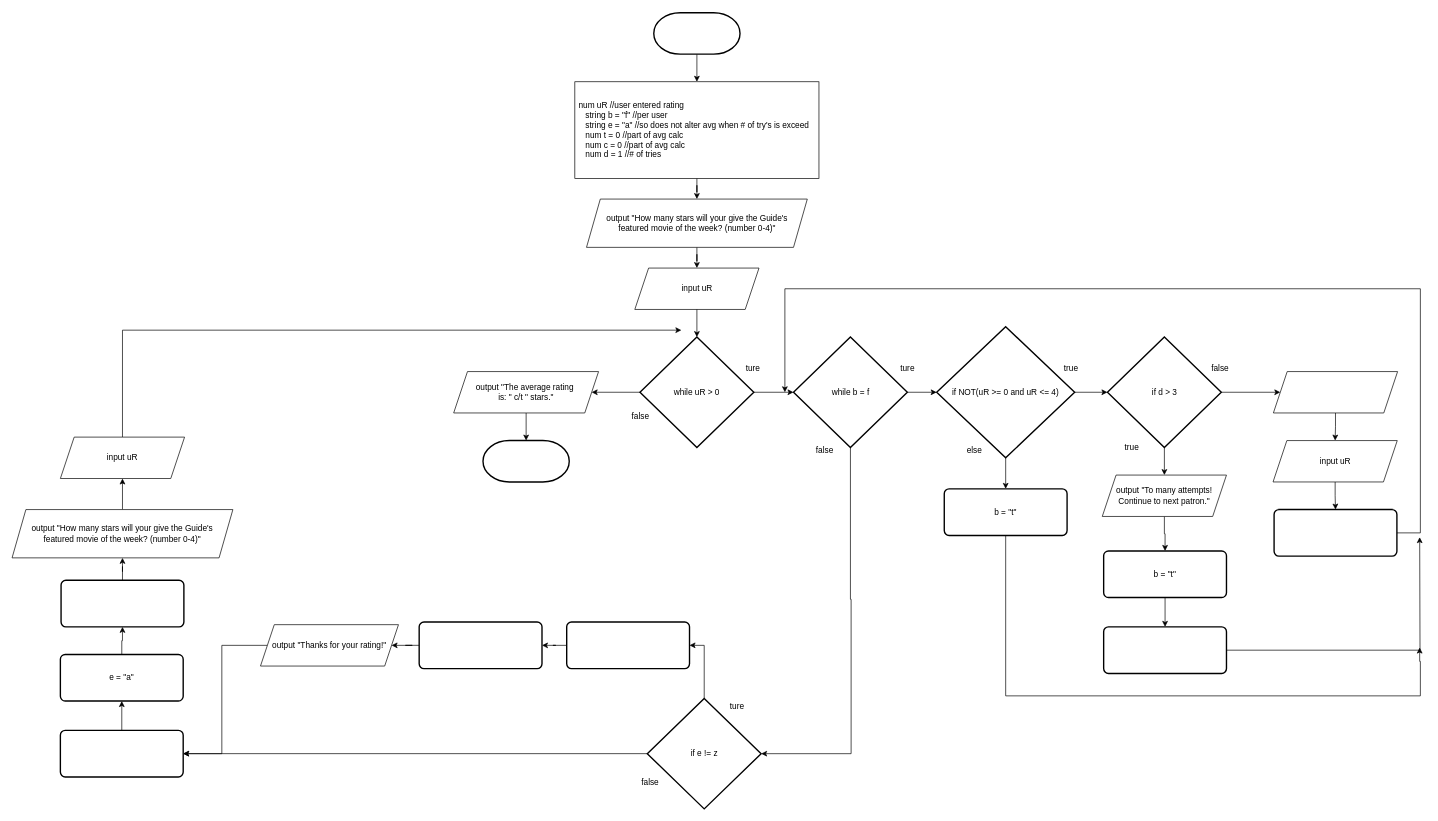
The diagram is 1438 pixels wide and 821 high, and some of its shapes have lost their labels. Here are the shapes that lost their labels. From the top down, the centre of each, then its label:
(x=696, y=33): start
(x=1335, y=392): output "Not valid input, has to be a number 0-4"
(x=526, y=461): end
(x=1335, y=532): d = d + 1
(x=122, y=603): d = 1
(x=480, y=645): t = t + 1
(x=628, y=645): c = c + uR
(x=1165, y=650): e = "z"
(x=121, y=753): b = "f"
